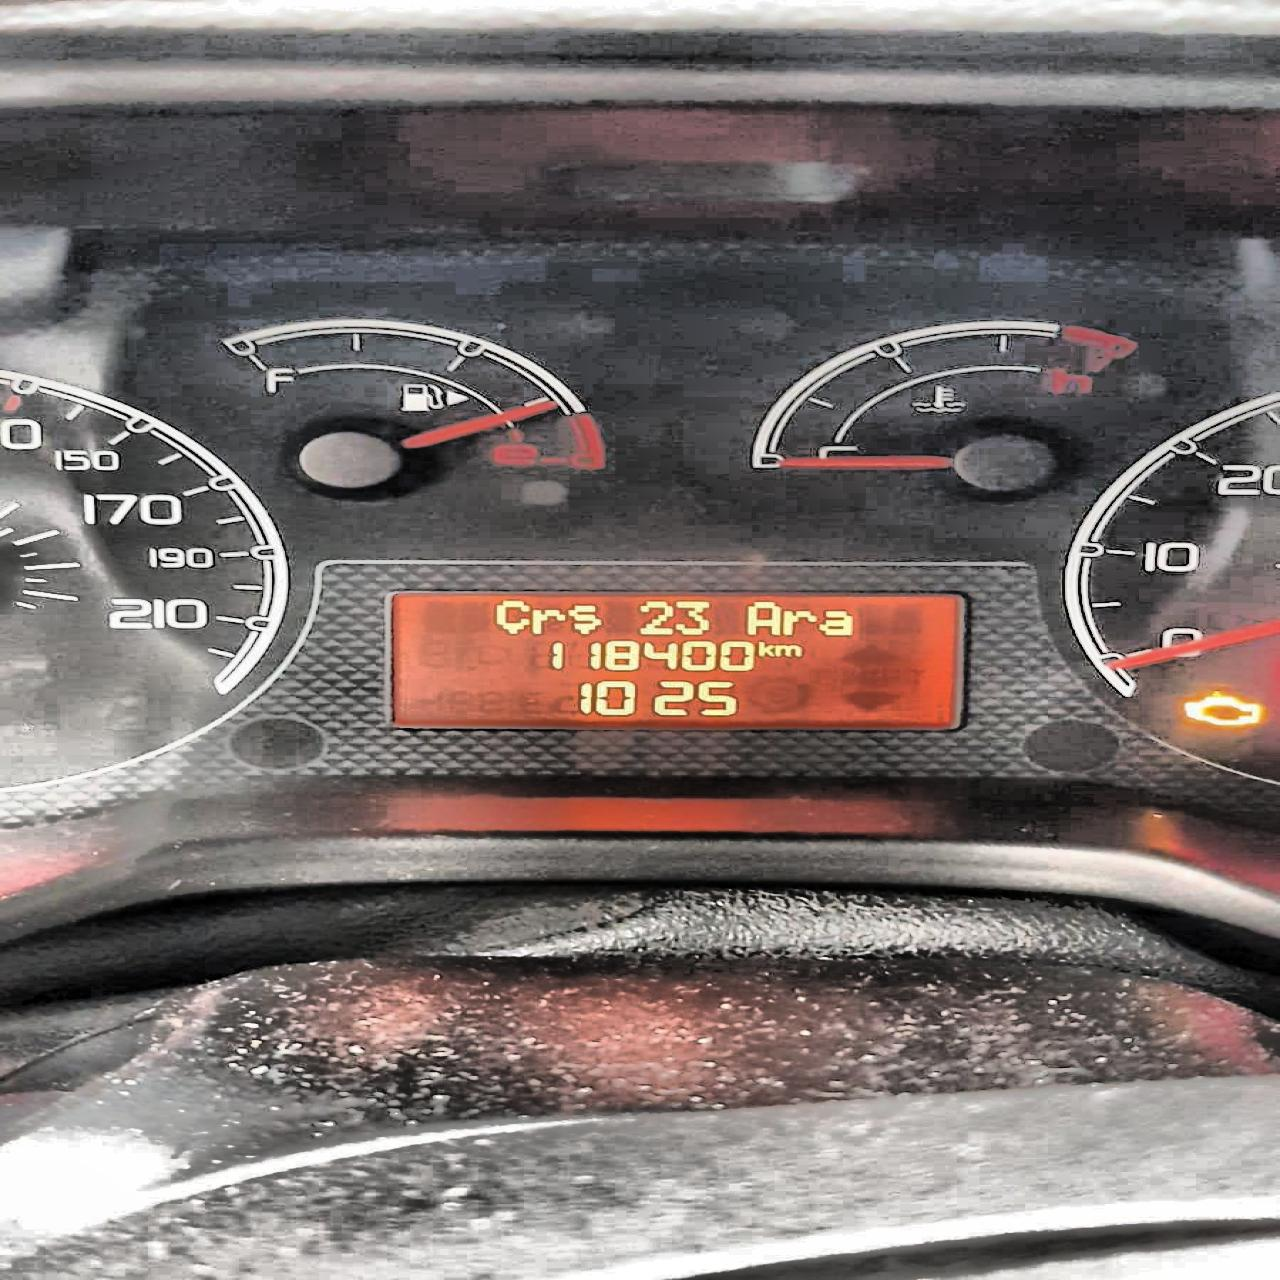0: (592, 679, 635, 717), (681, 639, 715, 673), (717, 639, 750, 673)
1: (583, 635, 602, 670), (545, 636, 565, 670), (576, 679, 591, 716)
2: (648, 678, 692, 717), (636, 598, 672, 633)
3: (673, 599, 712, 636)
4: (640, 638, 678, 670)
5: (697, 679, 741, 715)
8: (605, 638, 639, 670)
X: (491, 597, 527, 638), (743, 599, 782, 635), (567, 602, 602, 635), (530, 606, 566, 635), (817, 610, 855, 636), (782, 608, 817, 634), (775, 642, 802, 656), (755, 639, 774, 656)
odometer: (383, 590, 971, 735)
